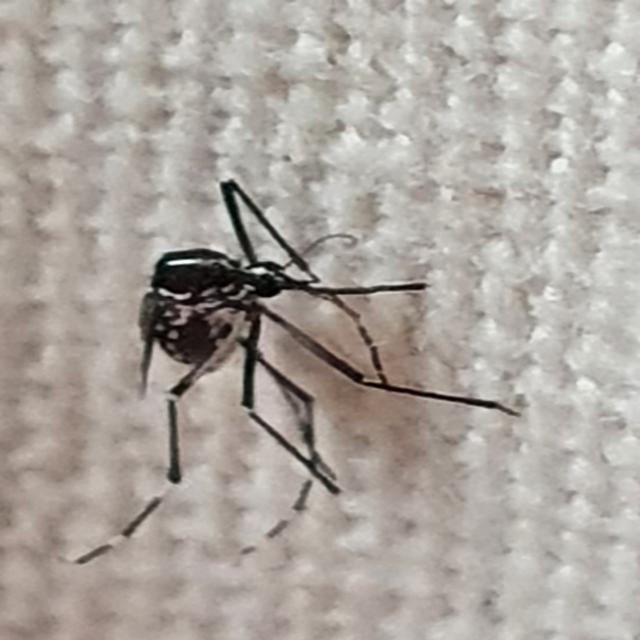albopictus: (70, 166, 509, 584)
